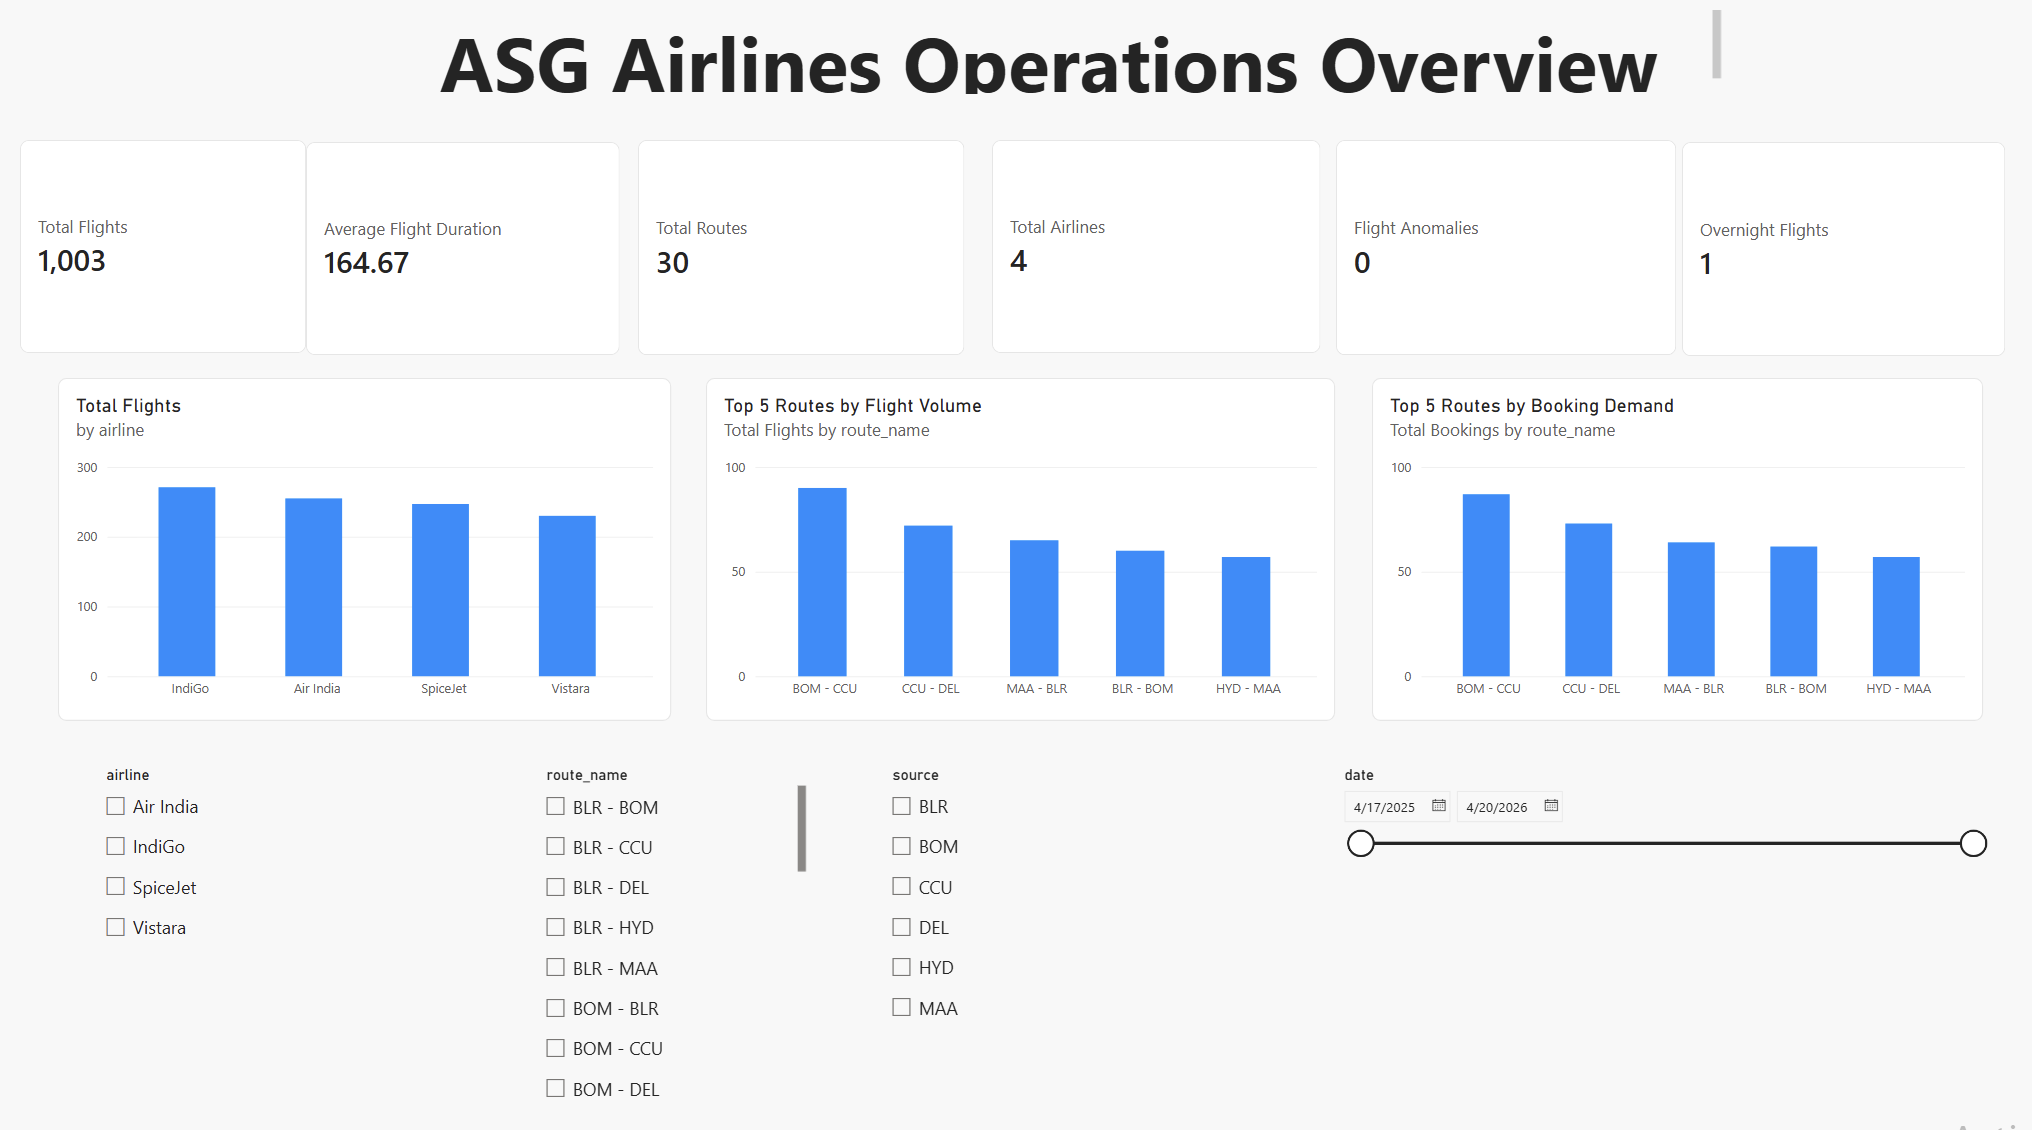

What the dashboard file says about the page in this screenshot:
{"tool":"powerbi","page":{"name":"Operations Overview","canvas":[1920,1080],"ordinal":0},"visuals":[{"type":"cardVisual","fields":{"Data":["_Measures.Total Flights"]},"box":[21.3,138.3,270,201.7],"z":0},{"type":"cardVisual","fields":{"Data":["_Measures.Average Flight Duration"]},"box":[291.5,140.4,296.7,201.7],"z":1000},{"type":"cardVisual","fields":{"Data":["_Measures.Total Routes"]},"box":[604.3,138.3,308.3,203.3],"z":2000},{"type":"cardVisual","fields":{"Data":["_Measures.Total Airlines"]},"box":[938.3,138.3,310,201.7],"z":3000},{"type":"cardVisual","fields":{"Data":["_Measures.Overnight Flights"]},"box":[1589.4,140.4,305,202.5],"z":4000},{"type":"cardVisual","fields":{"Data":["_Measures.Flight Anomalies"]},"box":[1261.7,138.3,321.7,203.3],"z":5000},{"type":"clusteredColumnChart","fields":{"Category":["dim_airline.airline"],"Y":["_Measures.Total Flights"]},"box":[57.4,361.7,578.3,323.3],"z":6000},{"type":"clusteredColumnChart","title":"Top 5 Routes by Flight Volume","fields":{"Category":["dim_route.route_name"],"Y":["_Measures.Total Flights"]},"box":[668.1,361.7,593.6,323.4],"z":7000},{"type":"slicer","fields":{"Values":["dim_airline.airline"]},"box":[93.6,727.7,322.5,302.5],"z":8000},{"type":"slicer","fields":{"Values":["dim_route.route_name"]},"box":[508.5,727.7,253.2,323.4],"z":9000},{"type":"slicer","fields":{"Values":["dim_route.source"]},"box":[836.2,727.7,390,322.5],"z":10000},{"type":"slicer","fields":{"Values":["dim_date.date"]},"box":[1261.7,727.7,617.5,260],"z":11000},{"type":"clusteredColumnChart","title":"Top 5 Routes by Booking Demand","fields":{"Category":["dim_route.route_name"],"Y":["_Measures.Total Bookings"]},"box":[1295.7,361.7,576.6,323.4],"z":12000},{"type":"textbox","box":[761,685,152,345],"z":13000},{"type":"textbox","box":[417,14.9,1208.5,78.7],"z":14000}]}

Visuals, with their boxes in screenshot pixels (x1, y1, x2, y2), scaled from the page's 1920x1080 canvas onto the 2032x1130 screenshot:
cardVisual - _Measures.Total Flights: rect(23, 145, 308, 356)
cardVisual - _Measures.Average Flight Duration: rect(309, 147, 623, 358)
cardVisual - _Measures.Total Routes: rect(640, 145, 966, 357)
cardVisual - _Measures.Total Airlines: rect(993, 145, 1321, 356)
cardVisual - _Measures.Overnight Flights: rect(1682, 147, 2005, 359)
cardVisual - _Measures.Flight Anomalies: rect(1335, 145, 1676, 357)
clusteredColumnChart - dim_airline.airline x _Measures.Total Flights: rect(61, 378, 673, 717)
"Top 5 Routes by Flight Volume" clusteredColumnChart: rect(707, 378, 1335, 717)
slicer - dim_airline.airline: rect(99, 761, 440, 1078)
slicer - dim_route.route_name: rect(538, 761, 806, 1100)
slicer - dim_route.source: rect(885, 761, 1298, 1099)
slicer - dim_date.date: rect(1335, 761, 1989, 1033)
"Top 5 Routes by Booking Demand" clusteredColumnChart: rect(1371, 378, 1982, 717)
textbox: rect(805, 717, 966, 1078)
textbox: rect(441, 16, 1720, 98)
